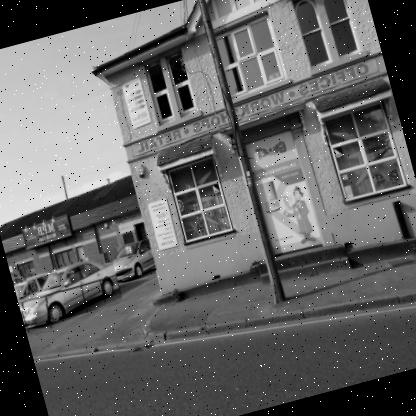Car: (12, 250, 124, 328), (13, 267, 68, 327), (108, 238, 158, 281), (13, 273, 54, 311), (10, 268, 30, 298), (12, 276, 21, 287)
